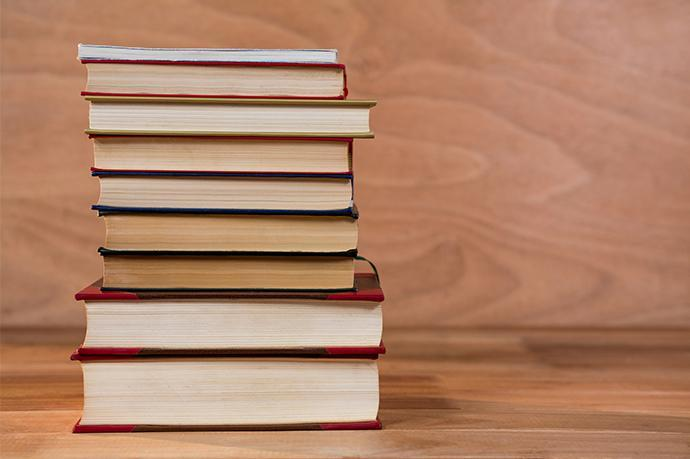book: (70, 43, 387, 432)
